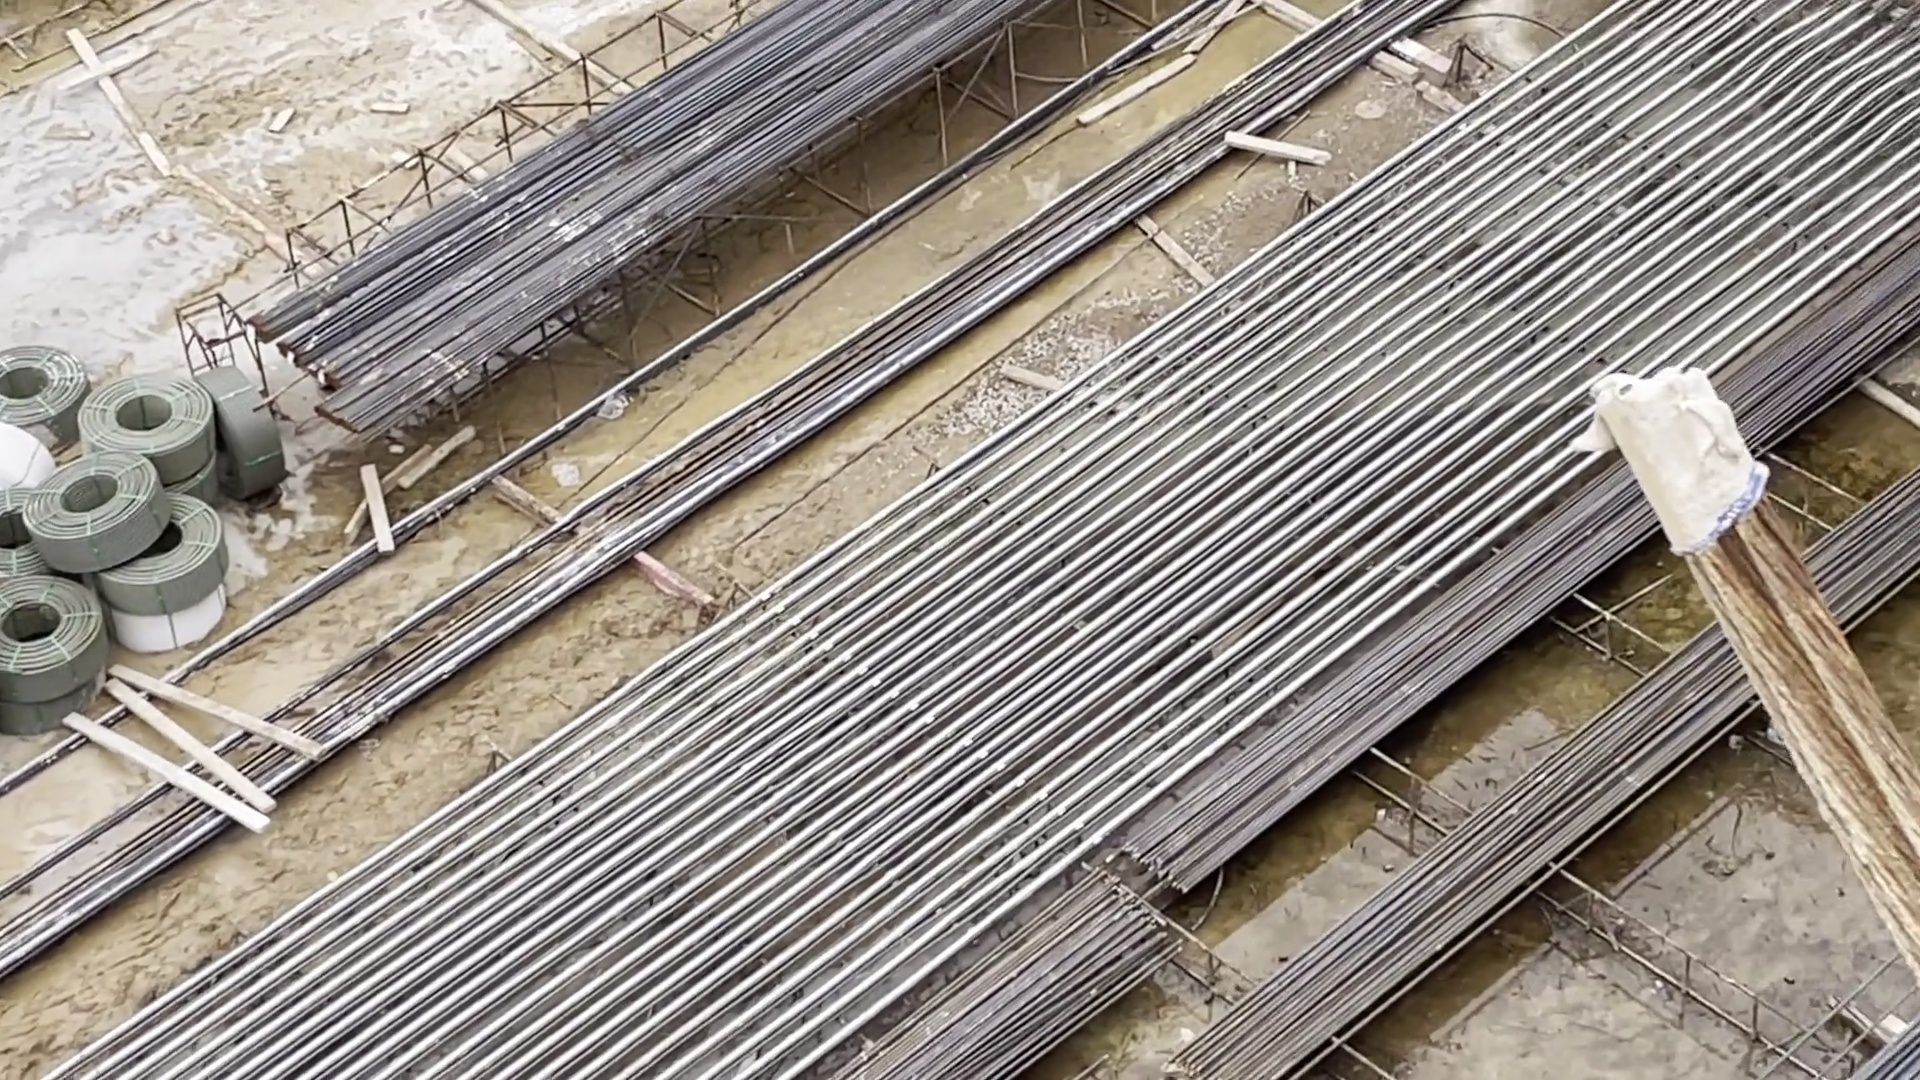rebar: (913, 501, 1920, 1080), (241, 1, 1044, 435)
